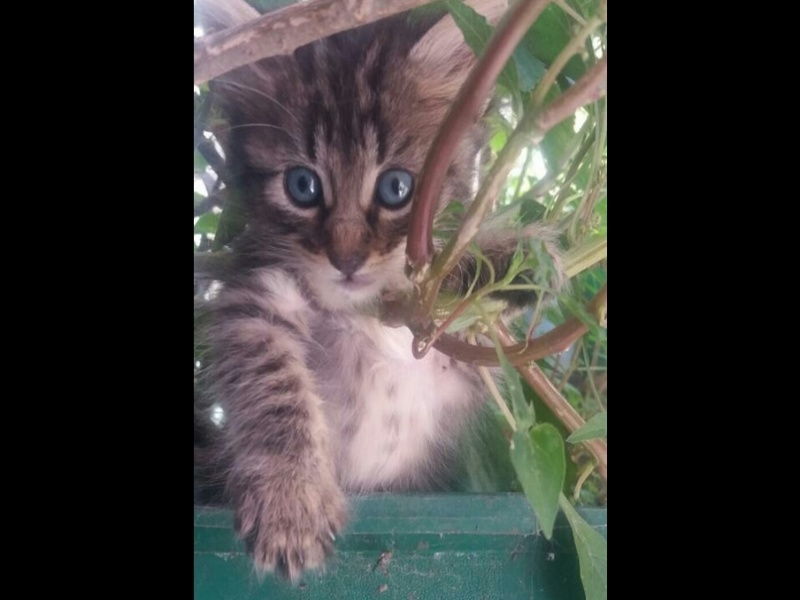cat: (205, 17, 521, 578)
